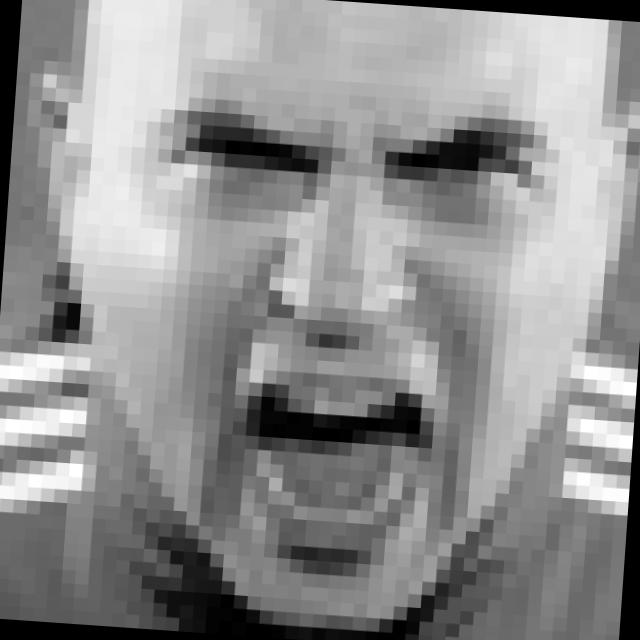angry: (114, 86, 559, 568)
